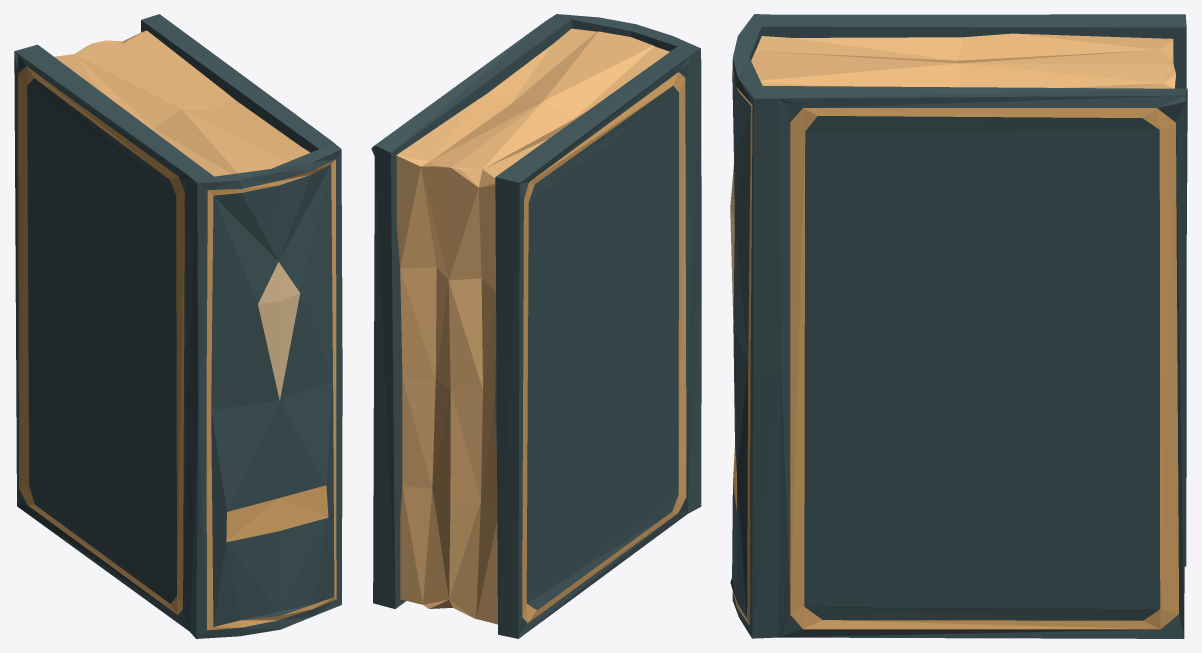
File: Book_012.fbx
The picture shows the model from 3 angles, left to right: view 1: azimuth 30°, elevation 25°; view 2: azimuth 150°, elevation 25°; view 3: azimuth 270°, elevation 25°; orthographic projection. The views are drawn at different scales.
Visible parts, largest first — view 1: Book_012; view 2: Book_012; view 3: Book_012.
Boxes of the visible parts, left/top/right/bottom form: Book_012: left=14, top=14, right=342, bottom=638; Book_012: left=371, top=14, right=701, bottom=638; Book_012: left=730, top=14, right=1187, bottom=638.
Bounding box in the file's own units: 0.1068 × 0.3158 × 0.2403.
